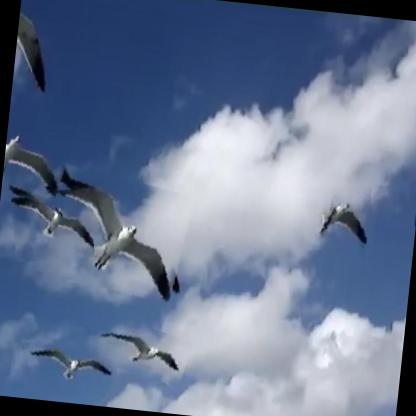bird: (37, 166, 194, 300), (18, 329, 121, 404), (7, 183, 98, 266), (101, 320, 192, 385), (299, 183, 376, 255), (0, 128, 70, 204)
